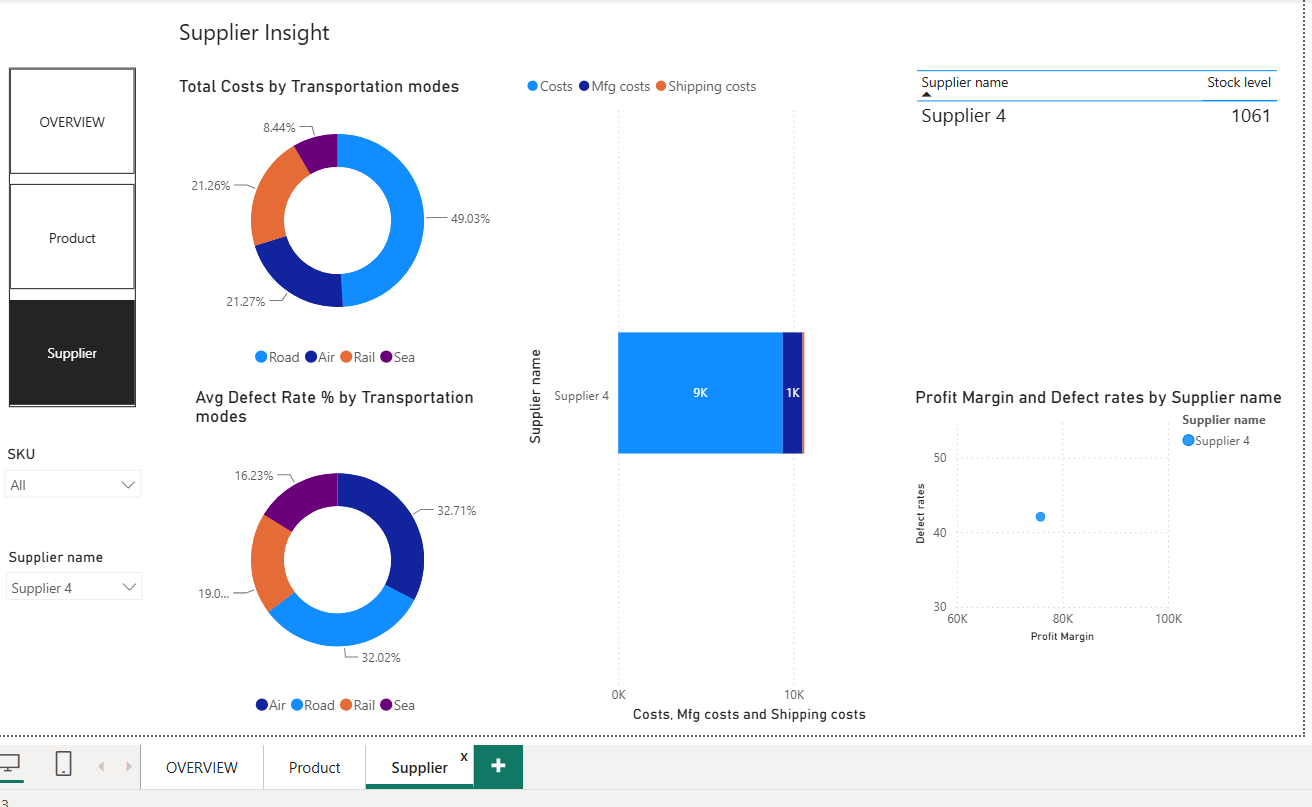

The page's visual inventory and layout, read from the dashboard file:
{"tool":"powerbi","page":{"name":"Supplier","canvas":[1280,720],"ordinal":2},"visuals":[{"type":"donutChart","fields":{"Category":["supply chain analysis.Transportation modes"],"Y":["_Measures.Total Costs"]},"box":[176.1,74.6,320.4,294.7],"z":0},{"type":"donutChart","fields":{"Category":["supply chain analysis.Transportation modes"],"Y":["_Measures.Avg Defect Rate %"]},"box":[191.9,379.4,288.6,330.4],"z":1000},{"type":"barChart","fields":{"Y":["Sum(supply chain analysis.Costs)","Sum(supply chain analysis.Mfg costs)","Sum(supply chain analysis.Shipping costs)"],"Category":["supply chain analysis.Supplier name"]},"box":[516,64.8,366.8,648.1],"z":2000},{"type":"tableEx","fields":{"Values":["supply chain analysis.Supplier name","_Measures.Stock level"]},"box":[896.3,64.8,384,304.5],"z":3000},{"type":"scatterChart","fields":{"X":["Sum(supply chain analysis.Profit Margin)"],"Y":["Sum(supply chain analysis.Defect rates)"],"Series":["supply chain analysis.Supplier name"]},"box":[896.3,379.1,369.3,255.6],"z":4000},{"type":"textbox","box":[176.1,12.2,643.2,52.6],"z":5000},{"type":"group","id":"g1","title":"Group 1","box":[0,67.8,155,546.6],"z":6000},{"type":"pageNavigator","box":[14.4,67.8,124.1,331.8],"z":8000,"group":"g1"},{"type":"slicer","fields":{"Values":["supply chain analysis.SKU"]},"box":[0,432.3,153.6,82.5],"z":9000,"group":"g1"},{"type":"slicer","fields":{"Values":["supply chain analysis.Supplier name"]},"box":[1.4,531.9,153.6,82.5],"z":10000,"group":"g1"}]}

Visuals, with their boxes on the page's 1280x720 design canvas (x1, y1, x2, y2). These are canvas units, not pixel positions in the 1312x807 screenshot, which may show the page scaled, cropped or inside an application window:
donutChart - supply chain analysis.Transportation modes x _Measures.Total Costs: {"left": 176, "top": 75, "right": 496, "bottom": 369}
donutChart - supply chain analysis.Transportation modes x _Measures.Avg Defect Rate %: {"left": 192, "top": 379, "right": 480, "bottom": 710}
barChart - Sum(supply chain analysis.Costs) x Sum(supply chain analysis.Mfg costs): {"left": 516, "top": 65, "right": 883, "bottom": 713}
tableEx - supply chain analysis.Supplier name x _Measures.Stock level: {"left": 896, "top": 65, "right": 1280, "bottom": 369}
scatterChart - Sum(supply chain analysis.Profit Margin) x Sum(supply chain analysis.Defect rates): {"left": 896, "top": 379, "right": 1266, "bottom": 635}
textbox: {"left": 176, "top": 12, "right": 819, "bottom": 65}
"Group 1" group: {"left": 0, "top": 68, "right": 155, "bottom": 614}
pageNavigator: {"left": 14, "top": 68, "right": 138, "bottom": 400}
slicer - supply chain analysis.SKU: {"left": 0, "top": 432, "right": 154, "bottom": 515}
slicer - supply chain analysis.Supplier name: {"left": 1, "top": 532, "right": 155, "bottom": 614}
